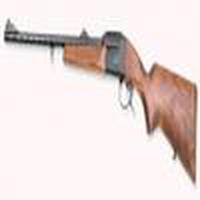gun: (4, 20, 200, 182)
